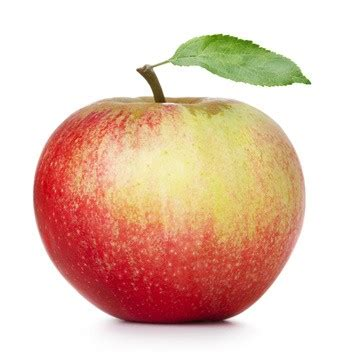apple: (31, 65, 311, 328)
